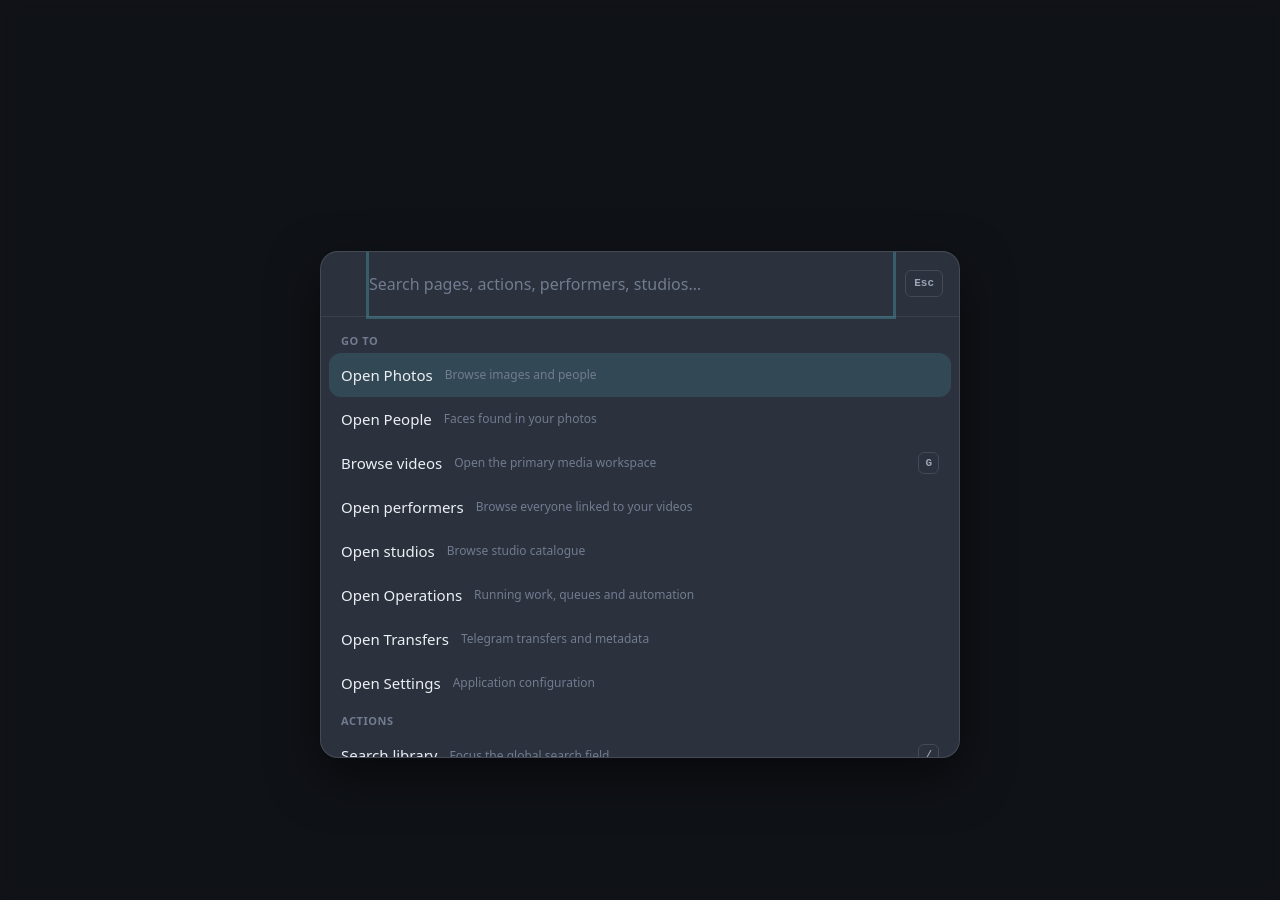
it: CommandPalette › finds performers and studios by name once you type, and remembers what you opened
The width and height of the screenshot is (1280, 900).
Type "ava" into the dropdown named "Search commands" at {"x": 631, "y": 284}, box [369,252,893,316]
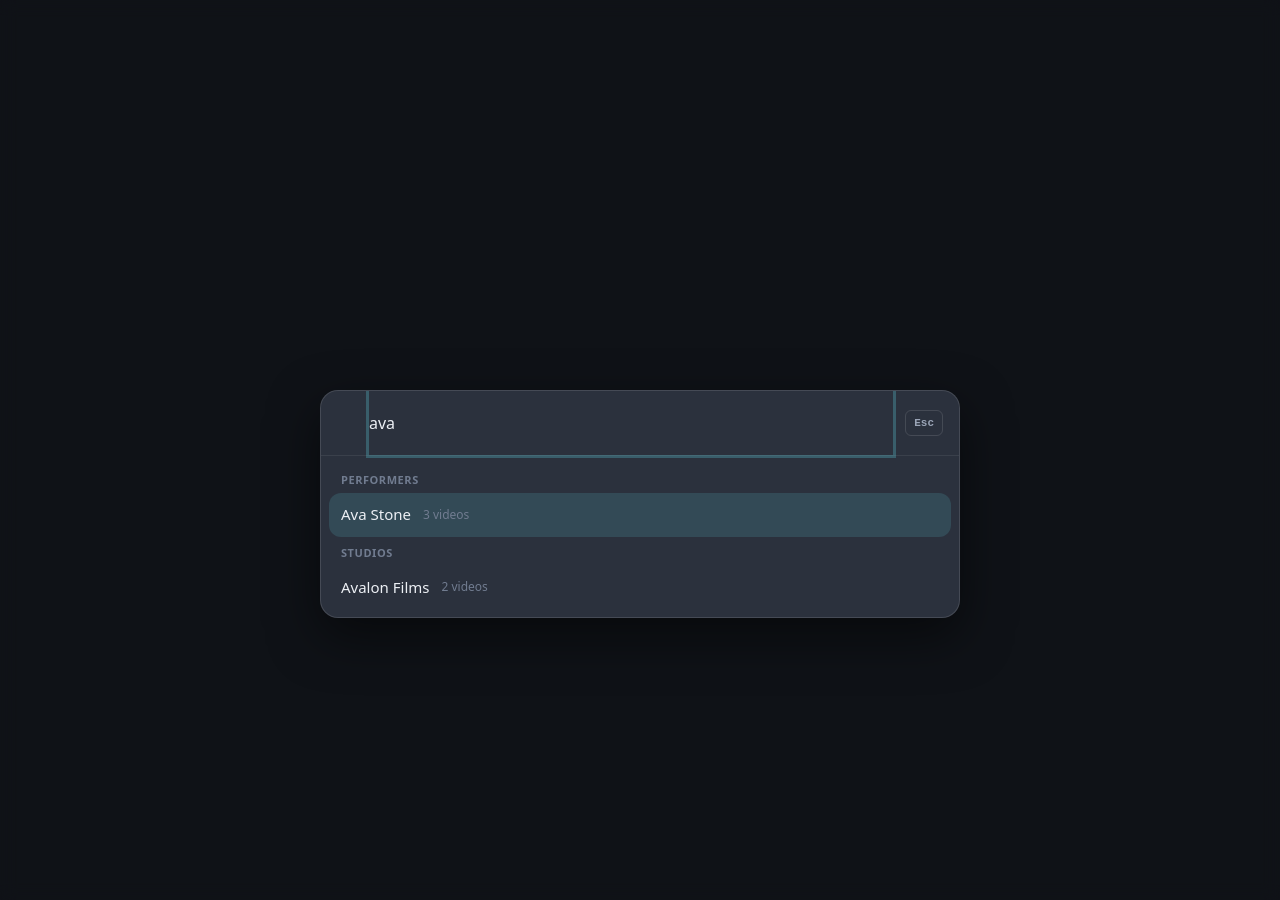
Result: the option "Ava Stone 3 videos" is shown
Result: the option "Avalon Films 2 videos" is shown at [329,565,951,609]
Result: the list item "Performers" is shown at [341,472,419,487]
Click the button "Ava Stone 3 videos" at {"x": 376, "y": 514}, box [329,492,951,536]
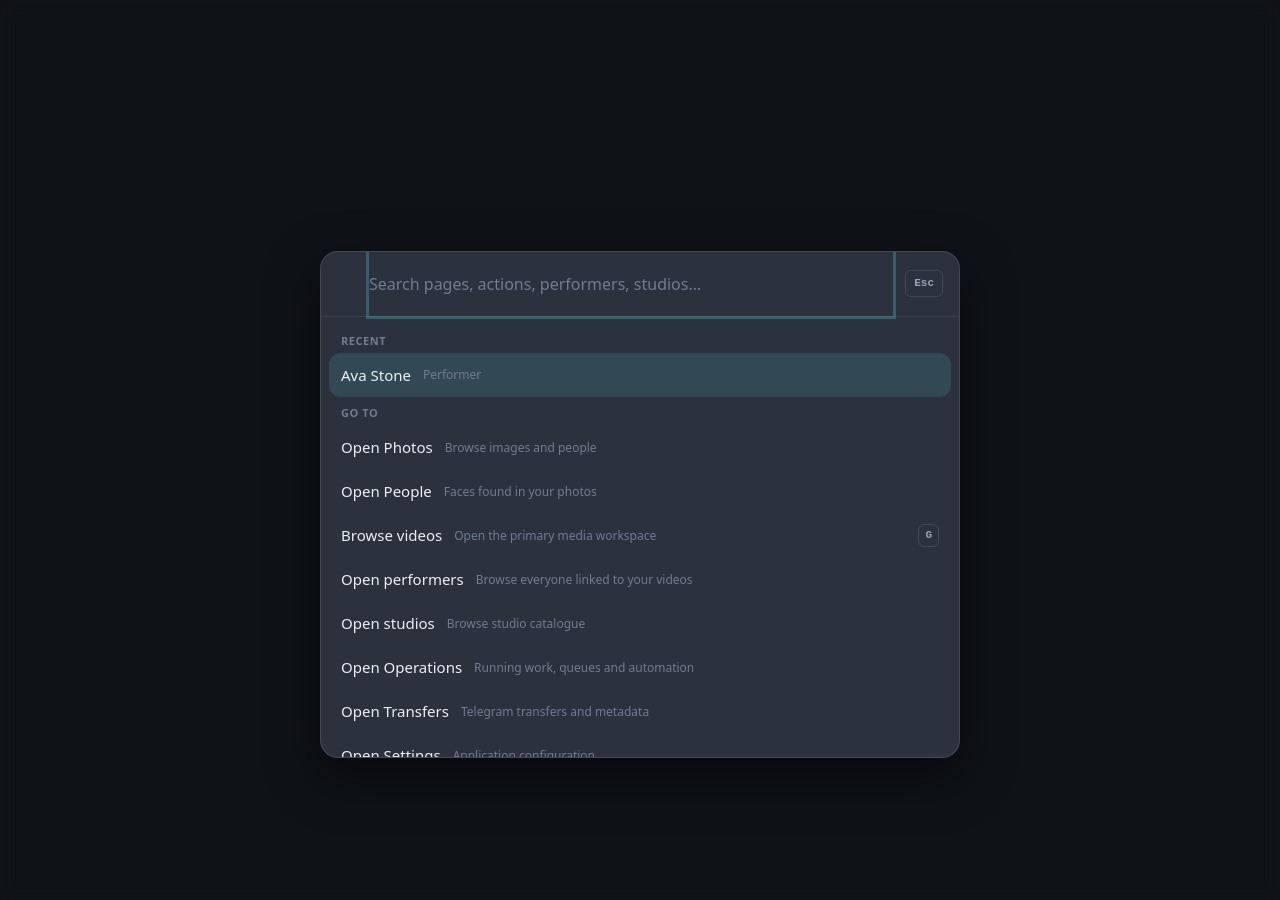
Result: the list item "Recent" is shown at [341,332,386,348]
Result: the option "Ava Stone Performer" is shown at [329,353,951,397]
